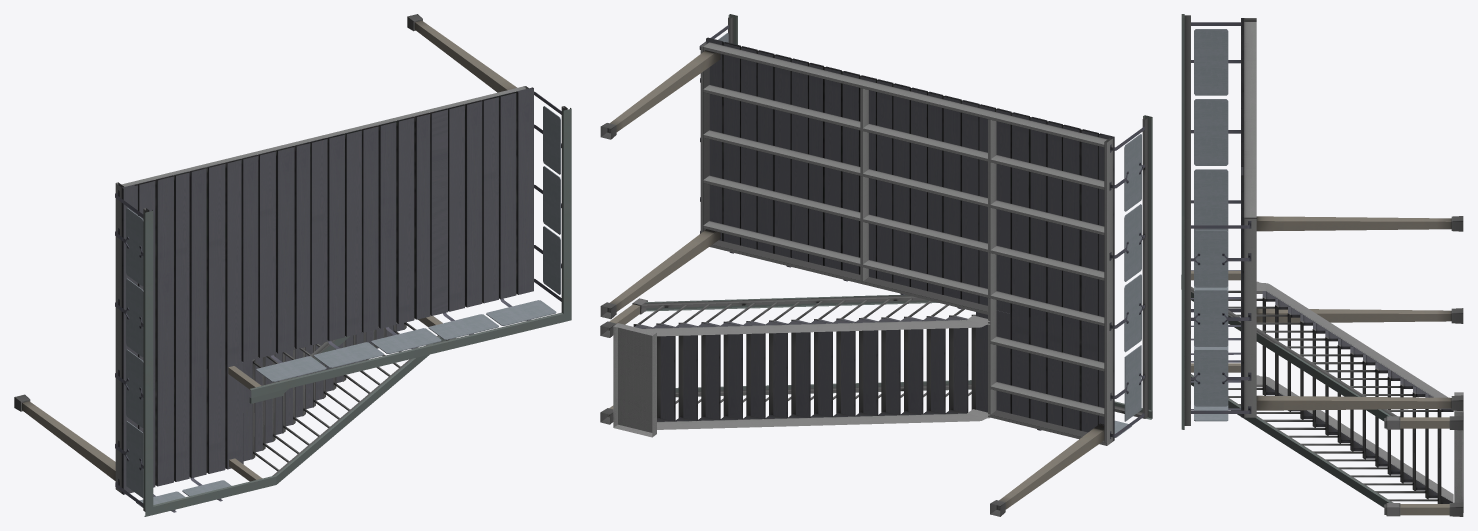
The model's file is nt_2020_house_02_balcony_LOD1.obj.
The picture shows the model from 3 angles, left to right: view 1: azimuth 30°, elevation 25°; view 2: azimuth 150°, elevation 25°; view 3: azimuth 270°, elevation 25°; orthographic projection.
Visible parts, largest first — view 1: mtl_nt_2020_house_02_balcony, glass_clear_mp; view 2: mtl_nt_2020_house_02_balcony, glass_clear_mp; view 3: mtl_nt_2020_house_02_balcony, glass_clear_mp.
Boxes of the visible parts, box(x1,y1,x2,y2) form: mtl_nt_2020_house_02_balcony: box(14, 14, 571, 516); glass_clear_mp: box(126, 106, 560, 507); mtl_nt_2020_house_02_balcony: box(600, 14, 1152, 516); glass_clear_mp: box(718, 33, 1141, 437); mtl_nt_2020_house_02_balcony: box(1181, 14, 1463, 516); glass_clear_mp: box(1194, 29, 1228, 421).
Size of the model in its own units: 792 by 553 by 458.
